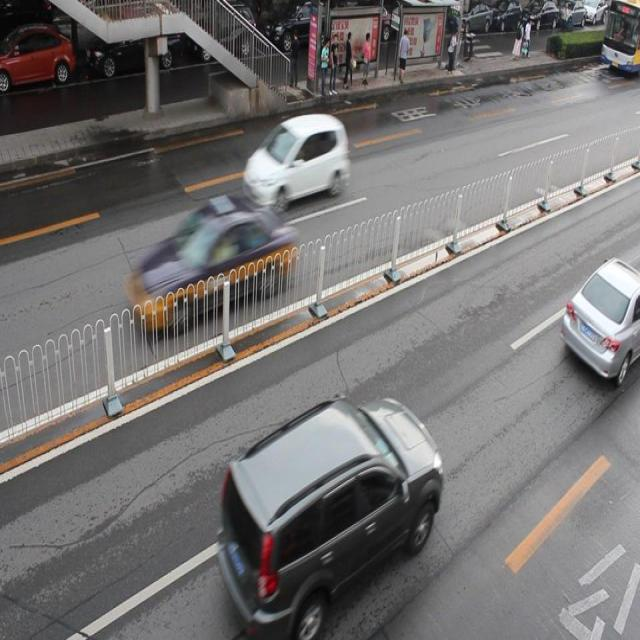car: (221, 395, 441, 631), (130, 194, 294, 331), (242, 111, 348, 207), (560, 256, 640, 376), (83, 20, 179, 80), (1, 25, 76, 92), (185, 1, 255, 59), (261, 1, 330, 56)
van: (600, 1, 640, 69)
